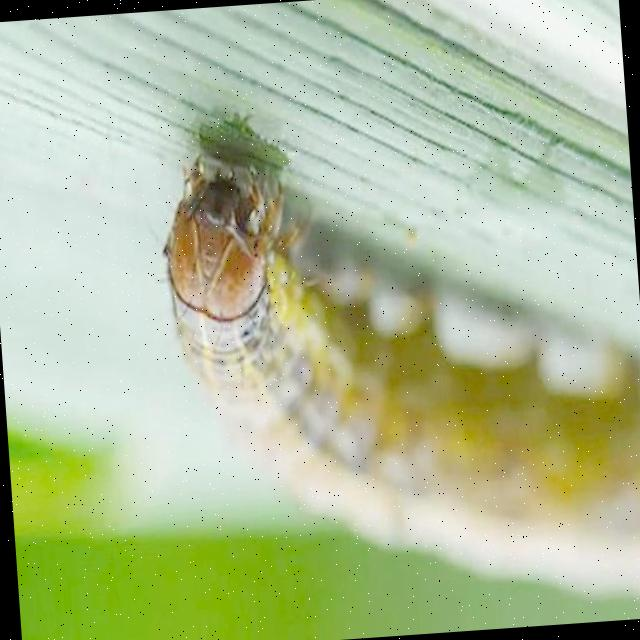worm: (153, 117, 640, 638)
